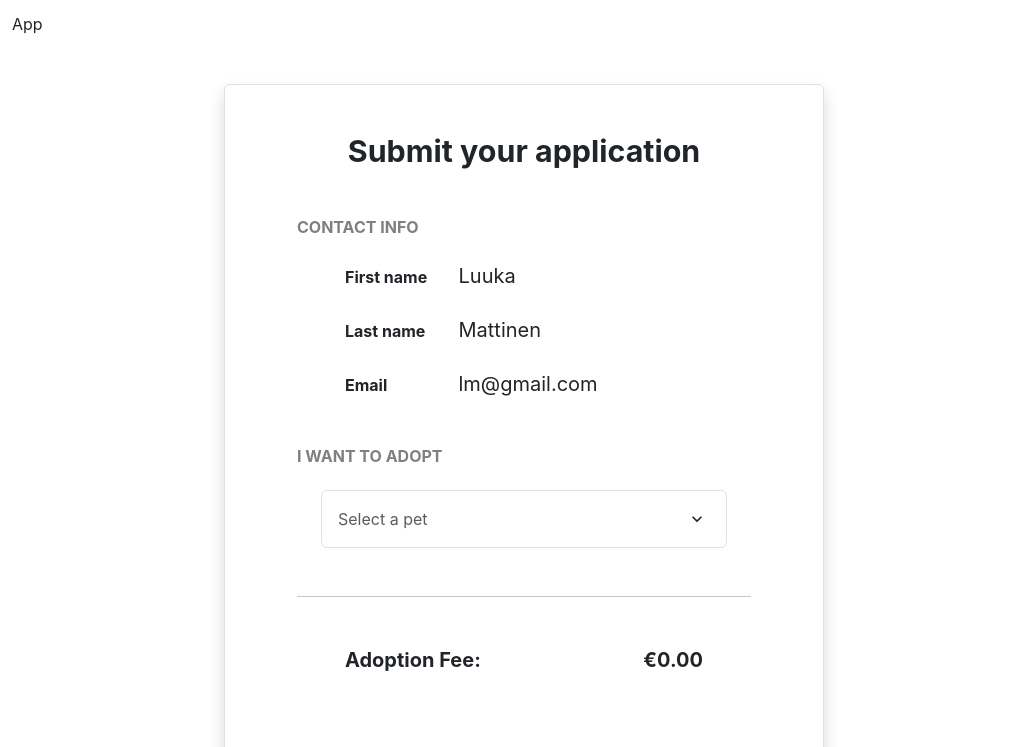
Test: <AdoptionForm /> › when user is logged in › clicking adopt option dropdown button › change displayed pet name when selecting another pet
The width and height of the screenshot is (1036, 747).
Click the 1st button. click: click(524, 519)
box: [321,490,727,548]
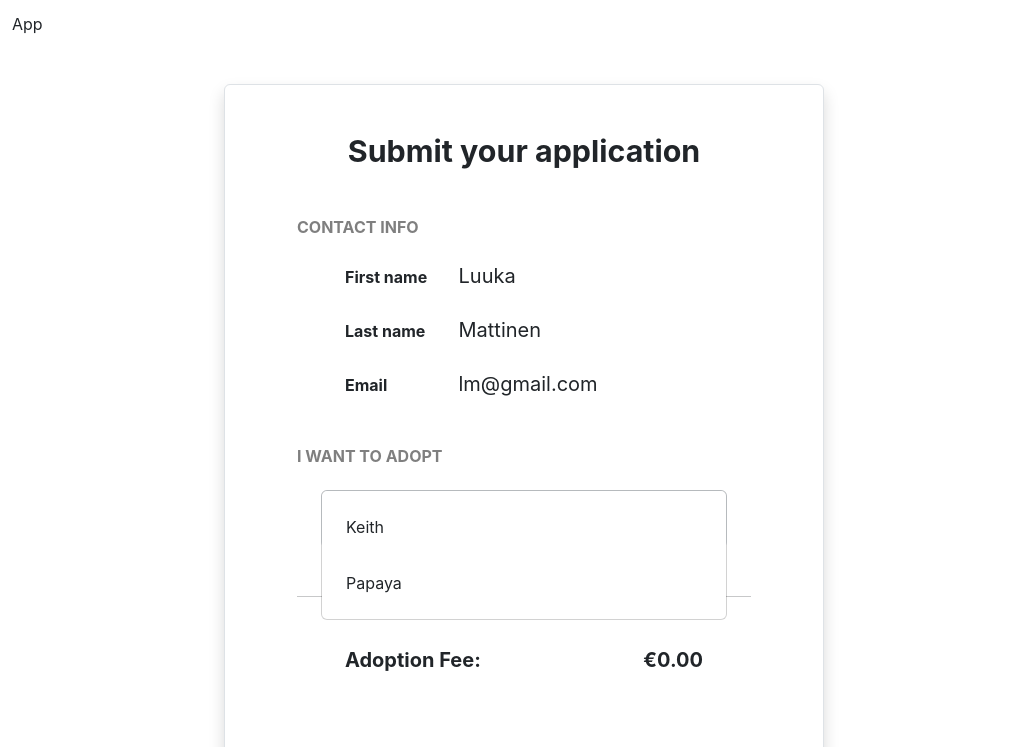
Click the list item "Papaya". click: click(374, 583)
box: [346,573,402,593]
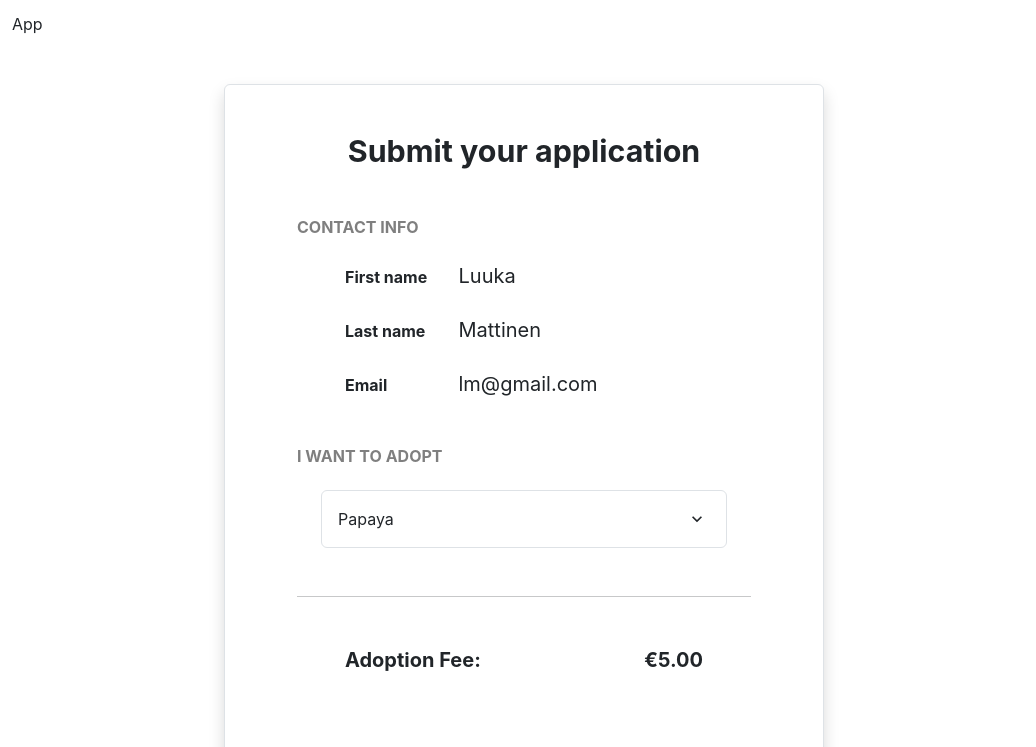
Expected: the text "5" is shown, [644,648,703,672]
Expected: the button showing "Keith" is gone
Expected: the field showing "Papaya" is shown, [321,490,727,548]
